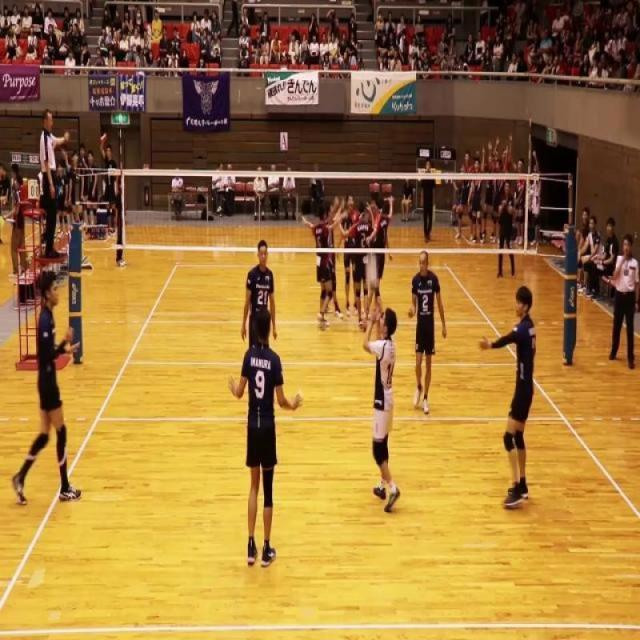volleyball: (365, 253, 380, 289)
